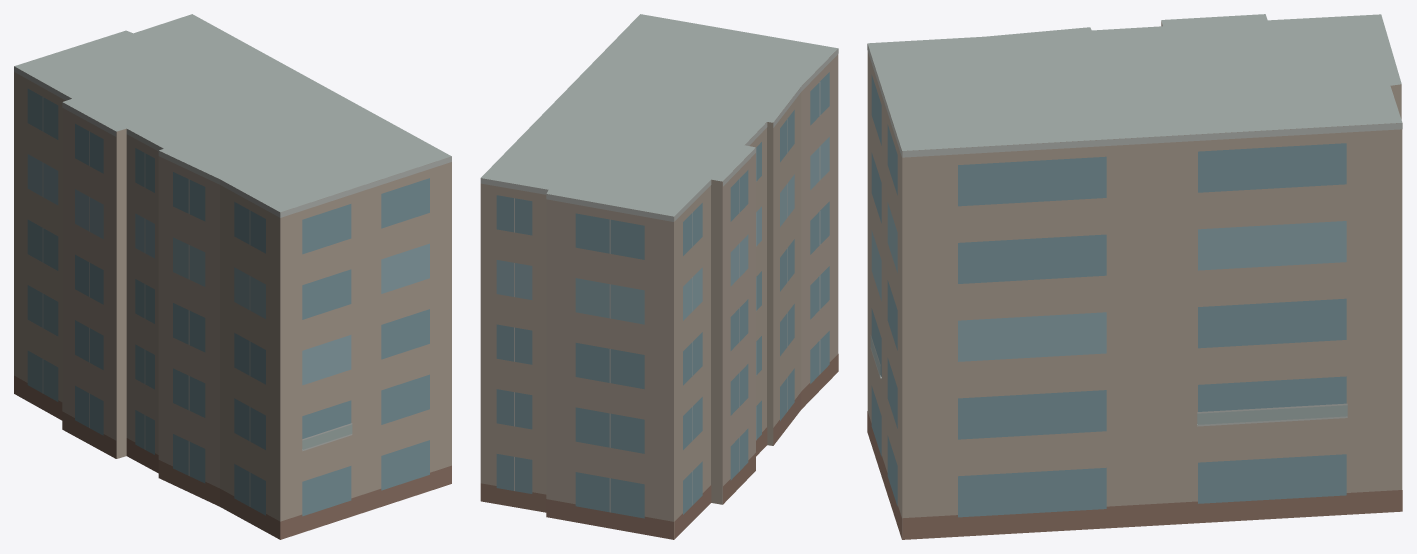
File: survey-upis-32549439.glb
3 renders of one model, left to right at view 1: azimuth 30°, elevation 25°; view 2: azimuth 150°, elevation 25°; view 3: azimuth 270°, elevation 25°, orthographic. The views are drawn at different scales.
Visible parts, largest first — view 1: survey-upis-32549439.tmp; view 2: survey-upis-32549439.tmp; view 3: survey-upis-32549439.tmp.
Part boxes in pixels (bbox=[...]): survey-upis-32549439.tmp: bbox=[14, 14, 451, 539]; survey-upis-32549439.tmp: bbox=[480, 14, 838, 539]; survey-upis-32549439.tmp: bbox=[867, 14, 1402, 539].
Bounding box in the file's own units: 10.89 × 14.4 × 17.97.
